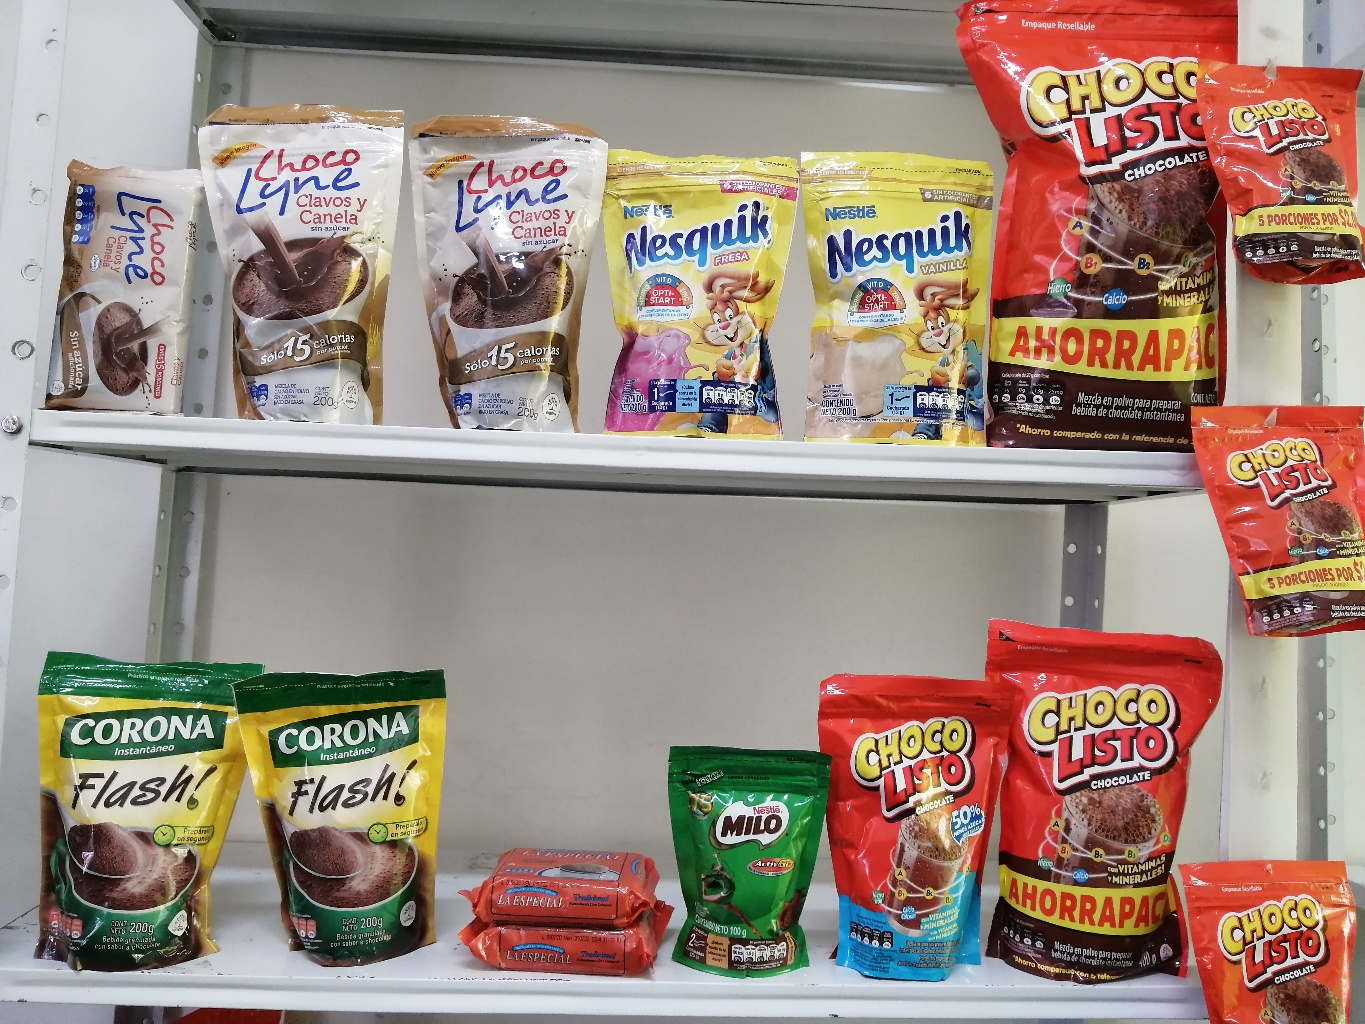COL0170103DYP1,500: (953, 2, 1272, 456)
COL0170103DYP10000: (1178, 849, 1357, 1019)
COL0170103DYP40000: (973, 602, 1221, 986)
COL0170104DYP20000: (823, 664, 993, 986)
COL0170203DYP10000: (662, 733, 854, 986)
COL0170305DYP20000: (598, 137, 816, 453)
COL0170306DYP20000: (798, 143, 1011, 461)
